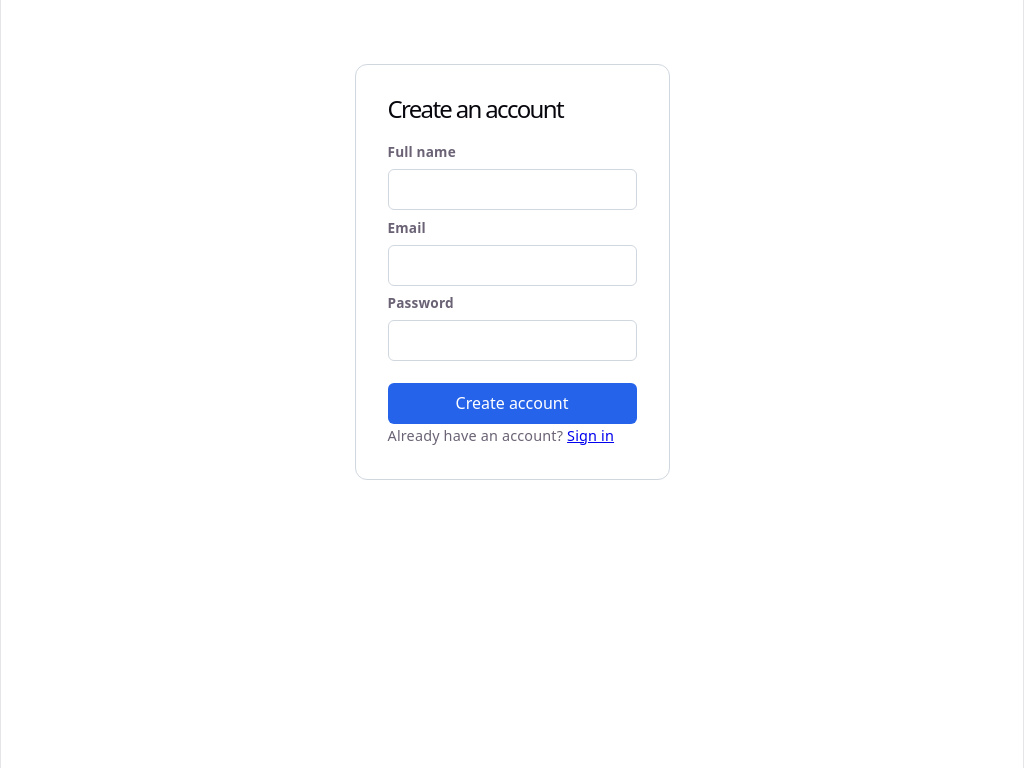
Test: registering › signs the new account in straight away
The image size is (1024, 768).
Type "Grace Hopper" into the field labelled "Full name" at (512, 190), box [388,169,636,210]
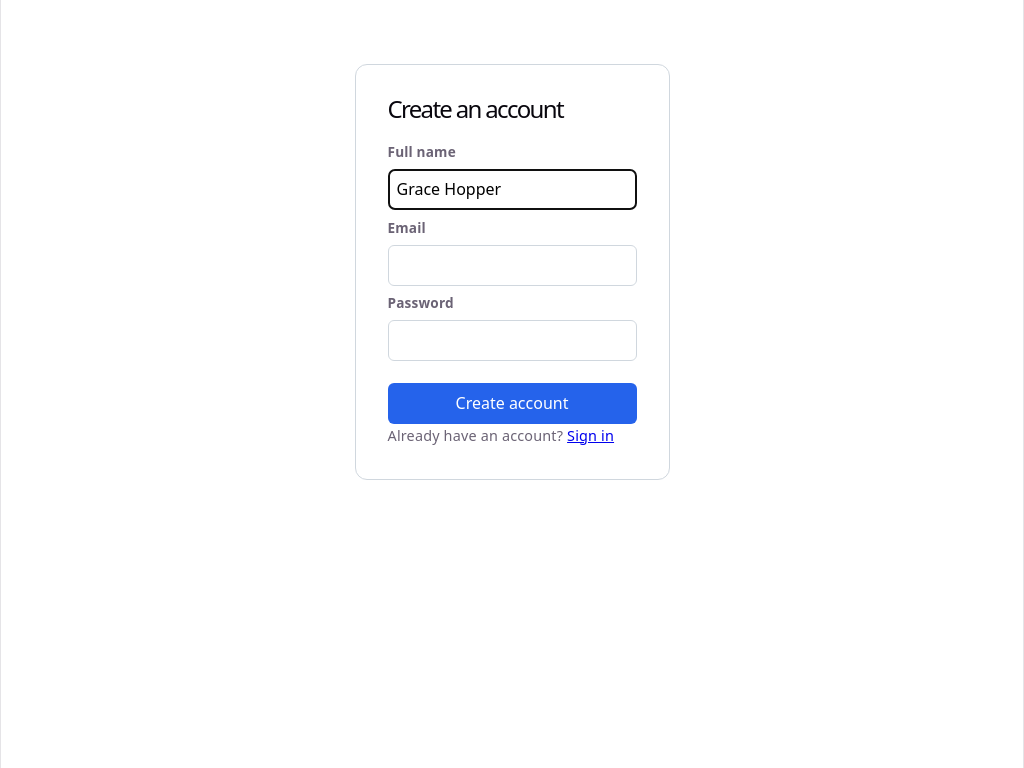
Type "grace@example.com" into the field labelled "Email" at (512, 265), box [388,245,636,286]
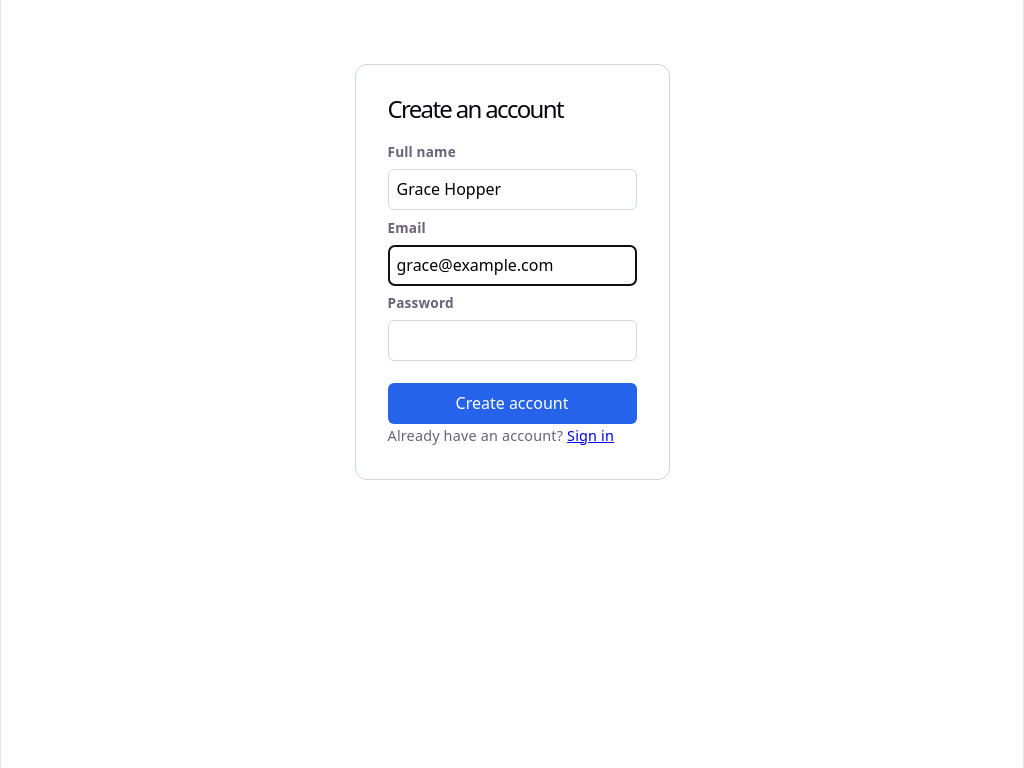
Type "super-secret-1" into the password field labelled "Password" at (512, 341), box [388,320,636,361]
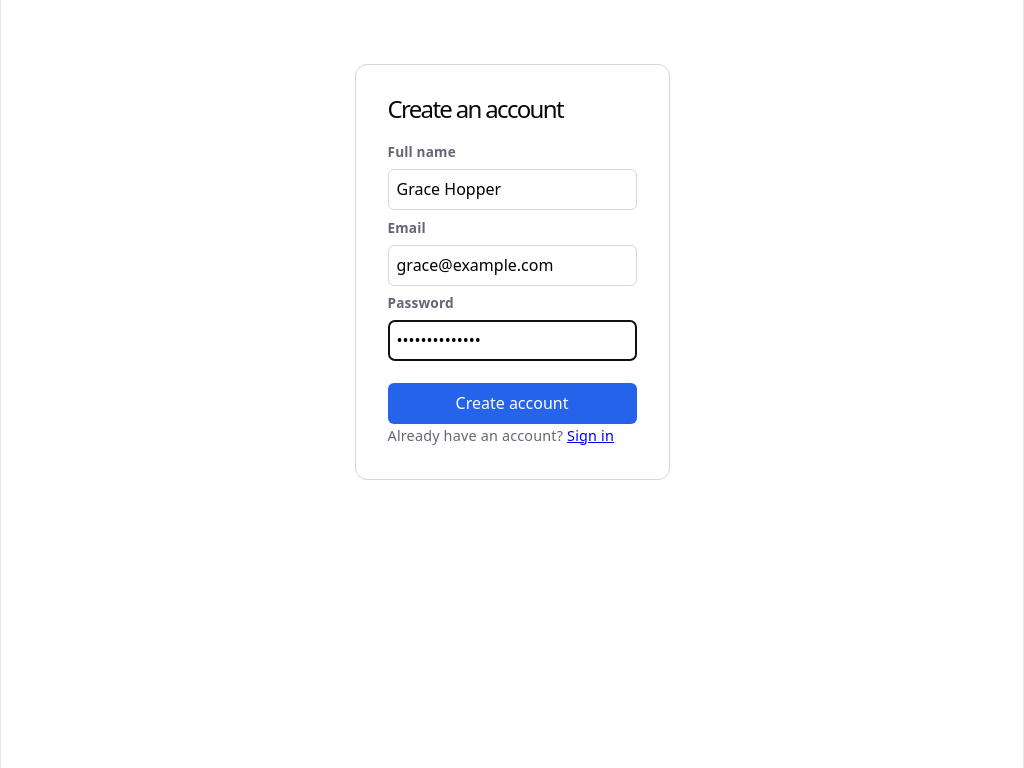
Click the button "Create account" at (512, 403), box [388,383,636,424]
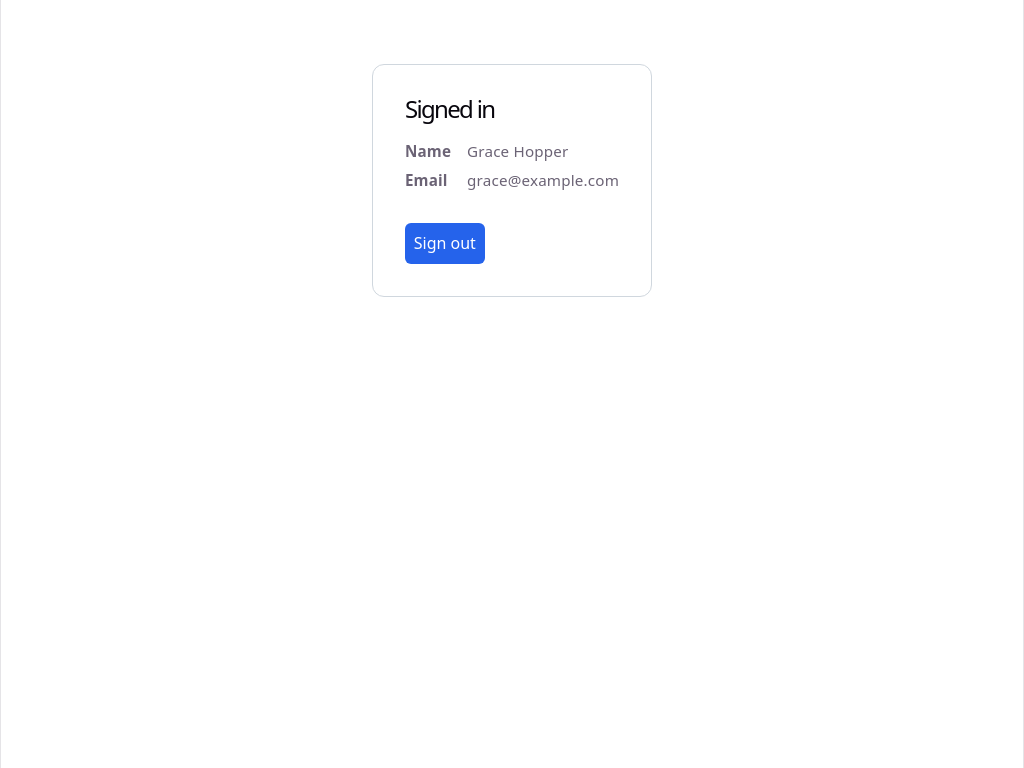
Now the heading "Signed in" is shown, box [405,92,494,125]
Now the text "grace@example.com" is shown, box [467,169,619,192]
